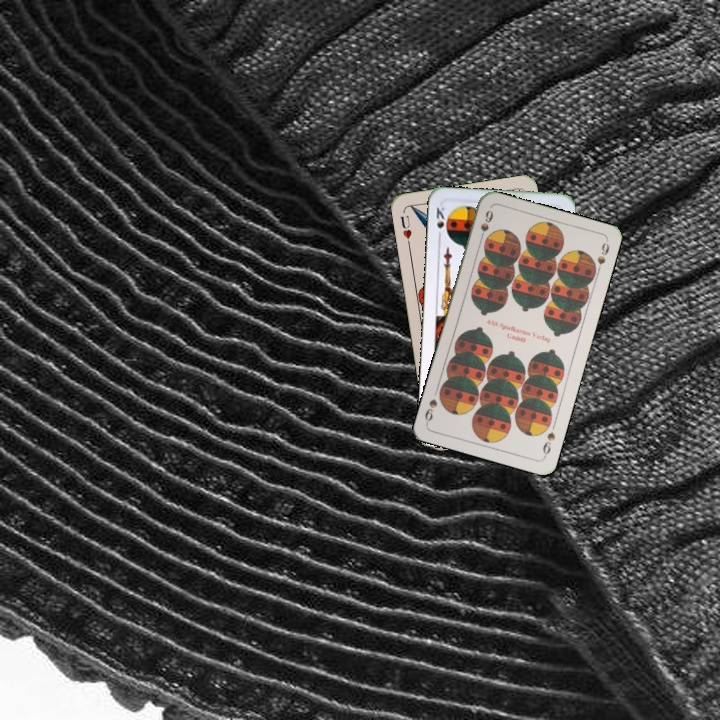HU: (396, 211, 414, 248)
S9: (475, 206, 496, 245), (539, 428, 558, 460)
SK: (432, 202, 448, 242)
